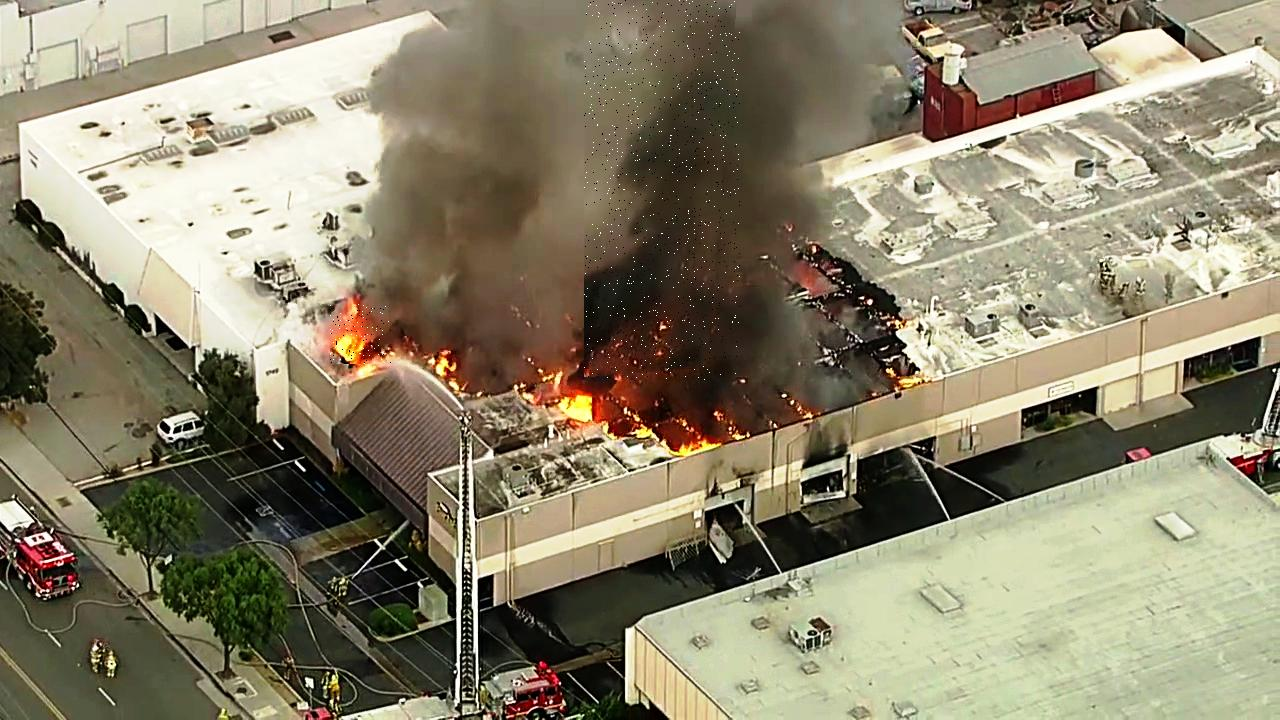fire: (330, 304, 391, 364)
smoke: (585, 0, 741, 380)
